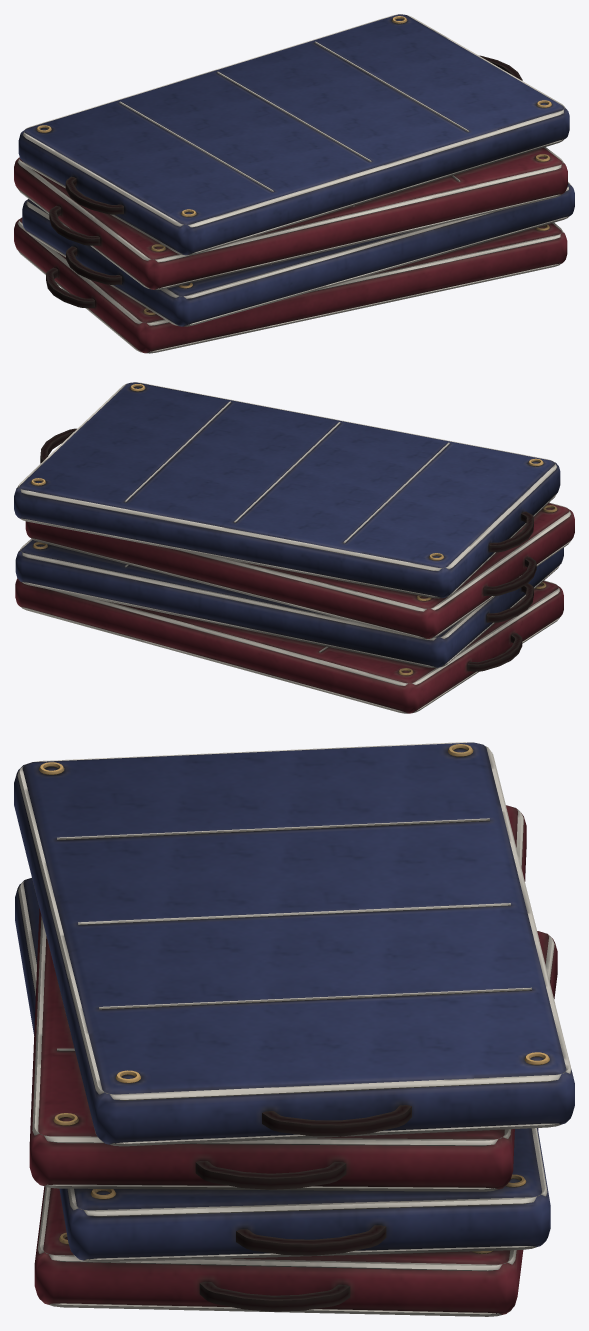
The model's file is GymMatStack.fbx.
3 renders of one model, top to bottom at view 1: azimuth 30°, elevation 25°; view 2: azimuth 150°, elevation 25°; view 3: azimuth 270°, elevation 25°, orthographic. The views are drawn at different scales.
Visible parts, largest first — view 1: GymMatStack; view 2: GymMatStack; view 3: GymMatStack.
Boxes of the visible parts, x1=… form: GymMatStack: x1=14, y1=14, x2=574, y2=353; GymMatStack: x1=14, y1=382, x2=574, y2=713; GymMatStack: x1=14, y1=742, x2=574, y2=1316.
Size of the model in its own units: 449 by 131 by 278.
